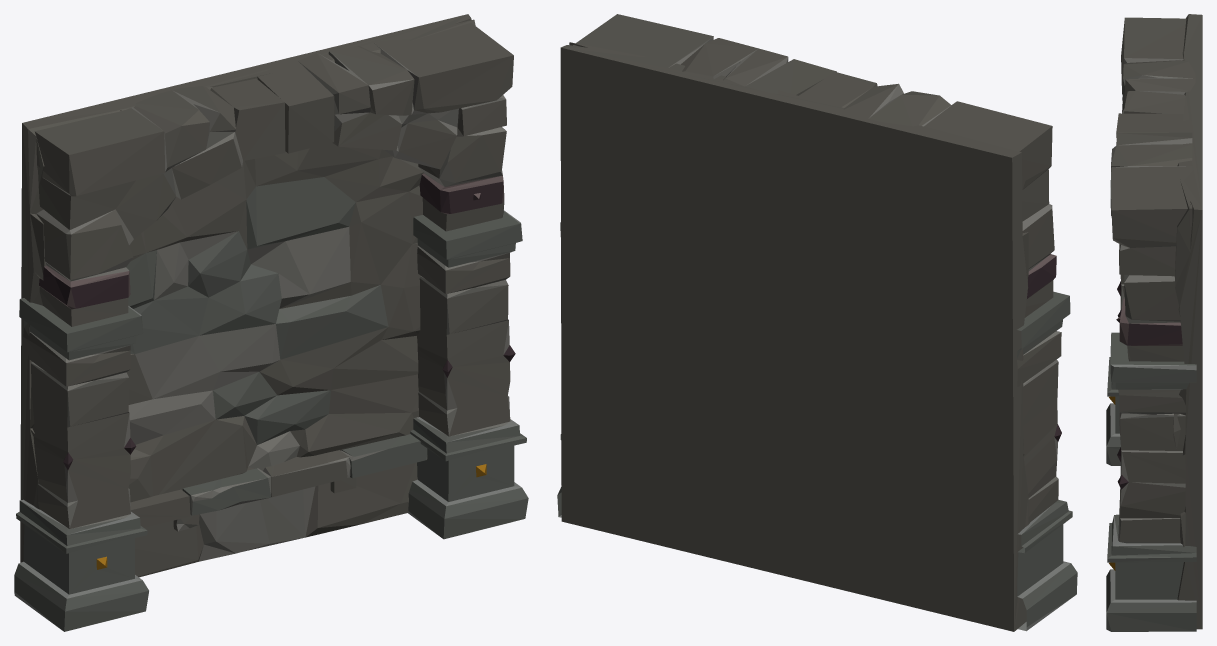
File: MDungeons_Wals_Arched_02.FBX
3 views of the same model, side by side, from view 1: azimuth 30°, elevation 25°; view 2: azimuth 150°, elevation 25°; view 3: azimuth 270°, elevation 25° (orthographic). The views are drawn at different scales.
Visible parts, largest first — view 1: MDungeons_Wals_Arched_02_LOD0; view 2: MDungeons_Wals_Arched_02_LOD0; view 3: MDungeons_Wals_Arched_02_LOD0.
Boxes of the visible parts, x1,y1,x2,y2 form: MDungeons_Wals_Arched_02_LOD0: (14,14,528,631); MDungeons_Wals_Arched_02_LOD0: (557,14,1077,631); MDungeons_Wals_Arched_02_LOD0: (1106,14,1202,631).
Size of what is drawn, in the model's own units: 6.25 by 6.07 by 1.26.
